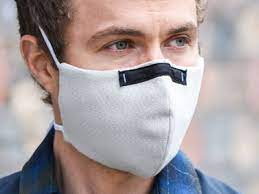FaceMask: (57, 59, 204, 178)
